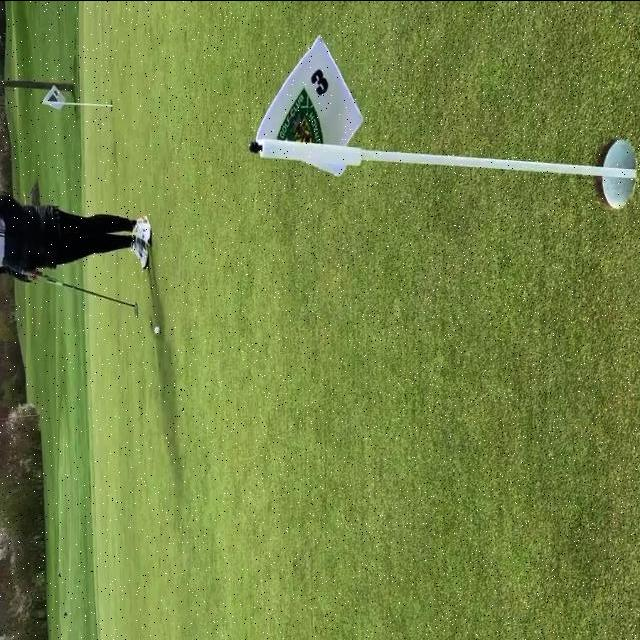ClubHandle: (19, 266, 140, 318)
ClubHead: (133, 300, 138, 316)
GolfBall: (154, 326, 161, 334)
